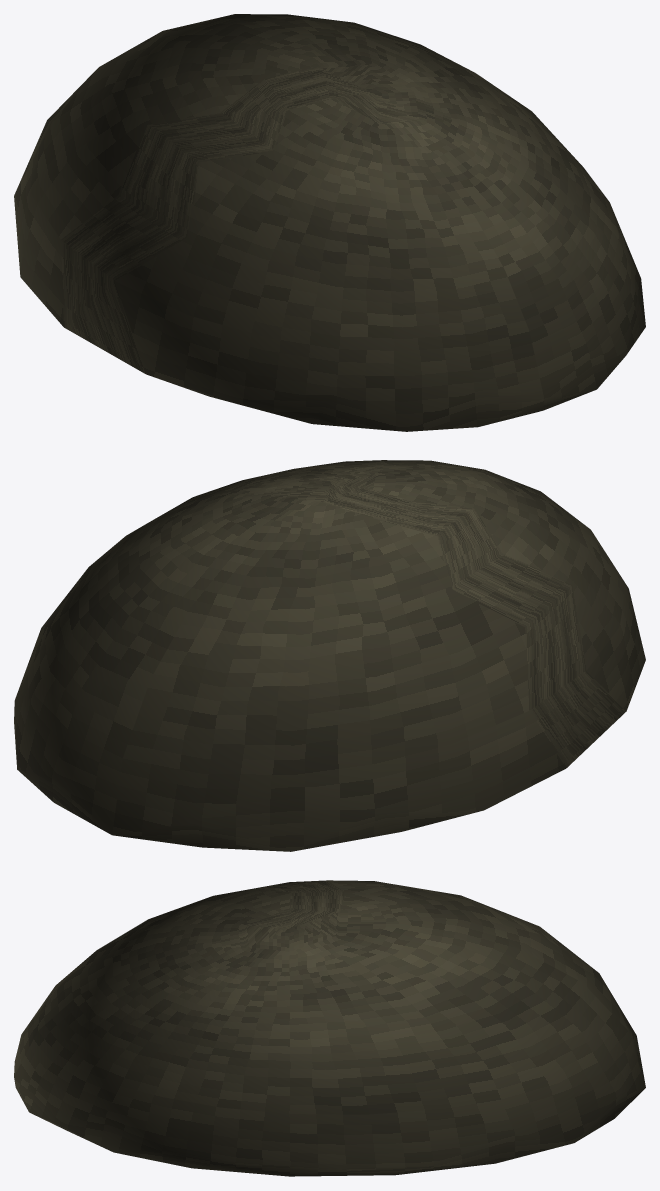
The model's file is stone_1.glb.
The picture shows the model from 3 angles, top to bottom: view 1: azimuth 30°, elevation 25°; view 2: azimuth 150°, elevation 25°; view 3: azimuth 270°, elevation 25°; orthographic projection. The views are drawn at different scales.
Parts seen in each view (by area): view 1: stone_1; view 2: stone_1; view 3: stone_1.
Part boxes in pixels (x1,y1,x2,y2): stone_1: (14, 14, 645, 431); stone_1: (14, 460, 645, 851); stone_1: (14, 880, 645, 1176).
Bounding box in the file's own units: 0.1043 × 0.0403 × 0.1391.
1 material, 1 textured.
